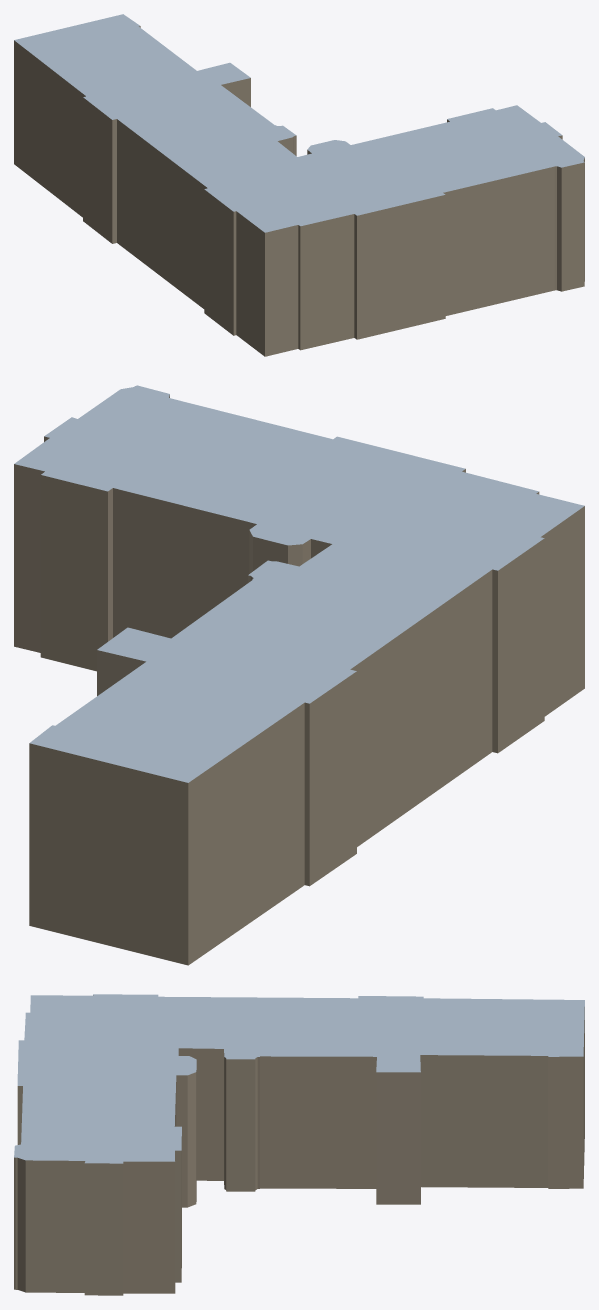
The picture shows the model from 3 angles, top to bottom: view 1: azimuth 30°, elevation 25°; view 2: azimuth 150°, elevation 25°; view 3: azimuth 270°, elevation 25°; orthographic projection. The views are drawn at different scales.
Visible parts, largest first — view 1: Walls0, Roof0; view 2: Walls0, Roof0; view 3: Walls0, Roof0.
Part boxes in pixels (x1,y1,x2,y2): Walls0: (14,26,584,356); Roof0: (14,14,584,232); Walls0: (14,395,584,965); Roof0: (14,385,584,782); Walls0: (14,995,584,1295); Roof0: (14,994,584,1163).
Size of the model in its own units: 4114 by 1496 by 5860.
